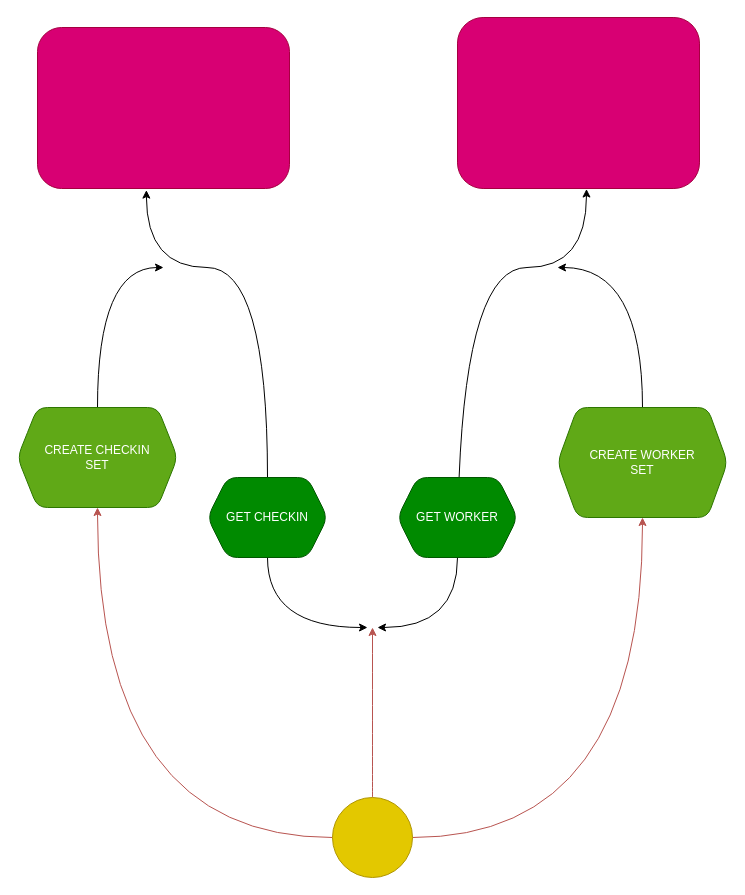
Image size: 745x895. Some labels were removed from this diagram. Each missing label, with the box of its shape:
CHECKBOOK MODEL NAME: STR START: DATETIME END: DATETIME: (36, 26, 290, 188)
WORKER NAME: STR: (456, 16, 700, 188)
